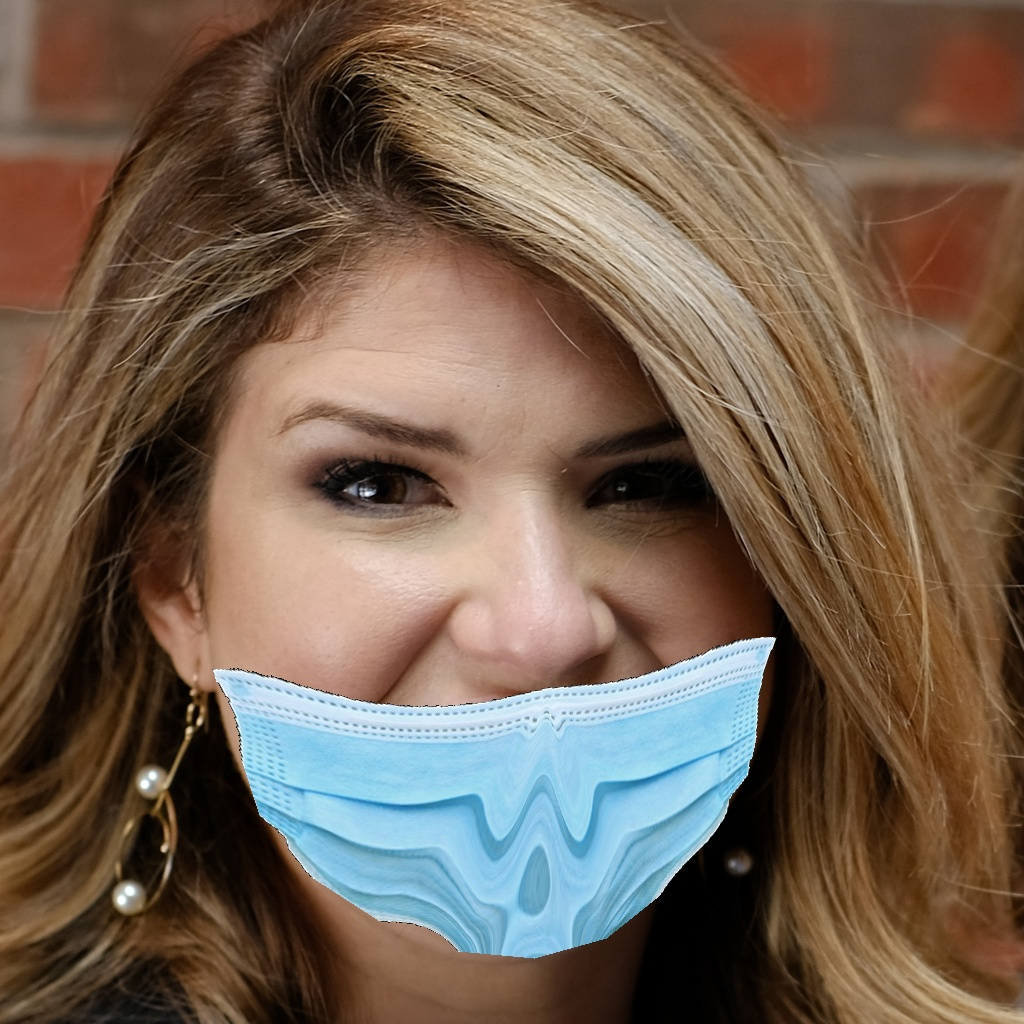mascarilla_mal_puesta: (172, 363, 887, 1015)
